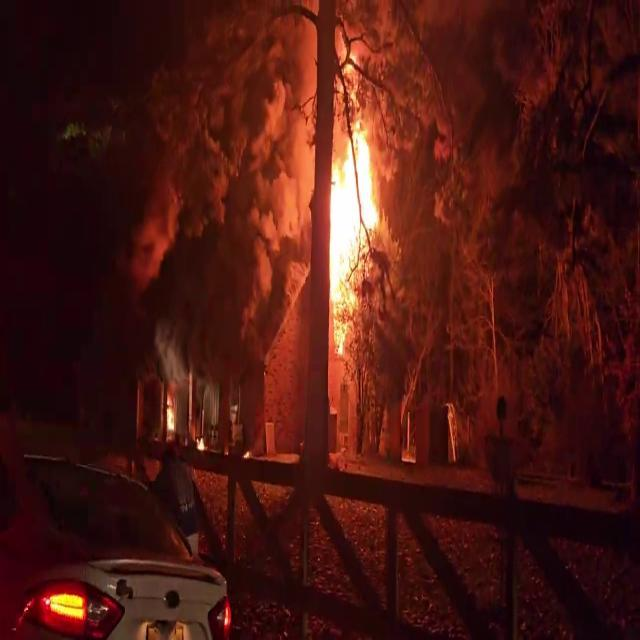Fire: (324, 110, 382, 330)
